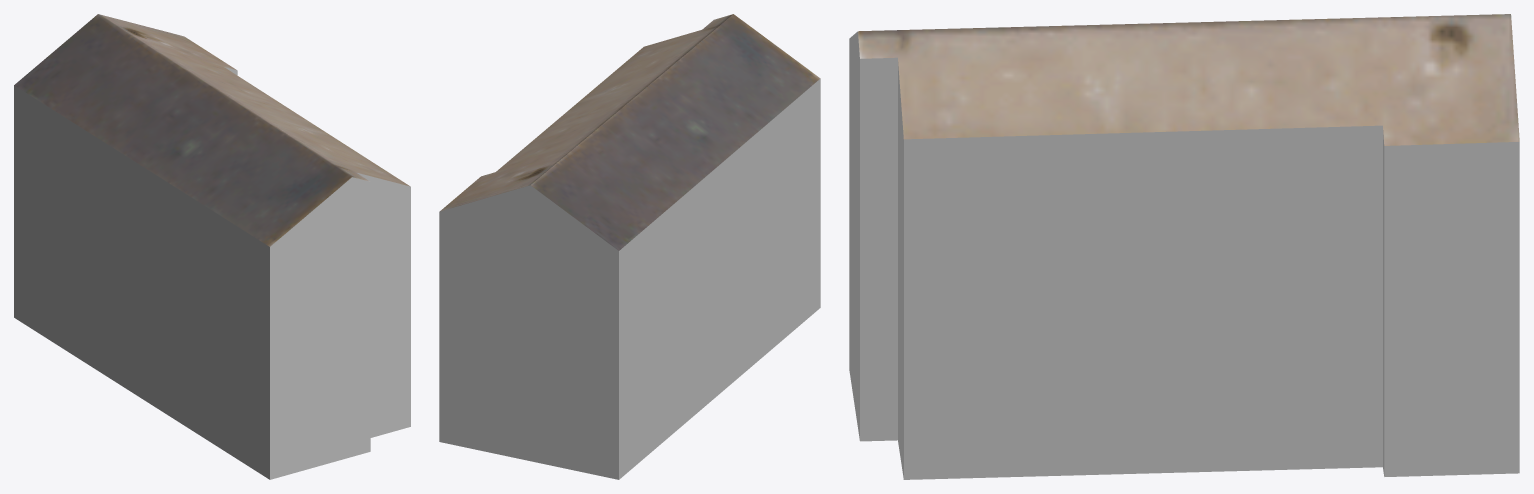
The model's file is DEBW_0010007Tx6S.gltf.
3 views of the same model, side by side, from view 1: azimuth 30°, elevation 25°; view 2: azimuth 150°, elevation 25°; view 3: azimuth 270°, elevation 25° (orthographic). The views are drawn at different scales.
Parts seen in each view (by area): view 1: Z_UP; view 2: Z_UP; view 3: Z_UP.
Part boxes in pixels (left/top/right/bottom): Z_UP: left=14, top=14, right=410, bottom=479; Z_UP: left=439, top=14, right=820, bottom=479; Z_UP: left=849, top=14, right=1519, bottom=479.
Bounding box in the file's own units: 12.76 × 18.39 × 28.11.
2 materials, 1 textured.
